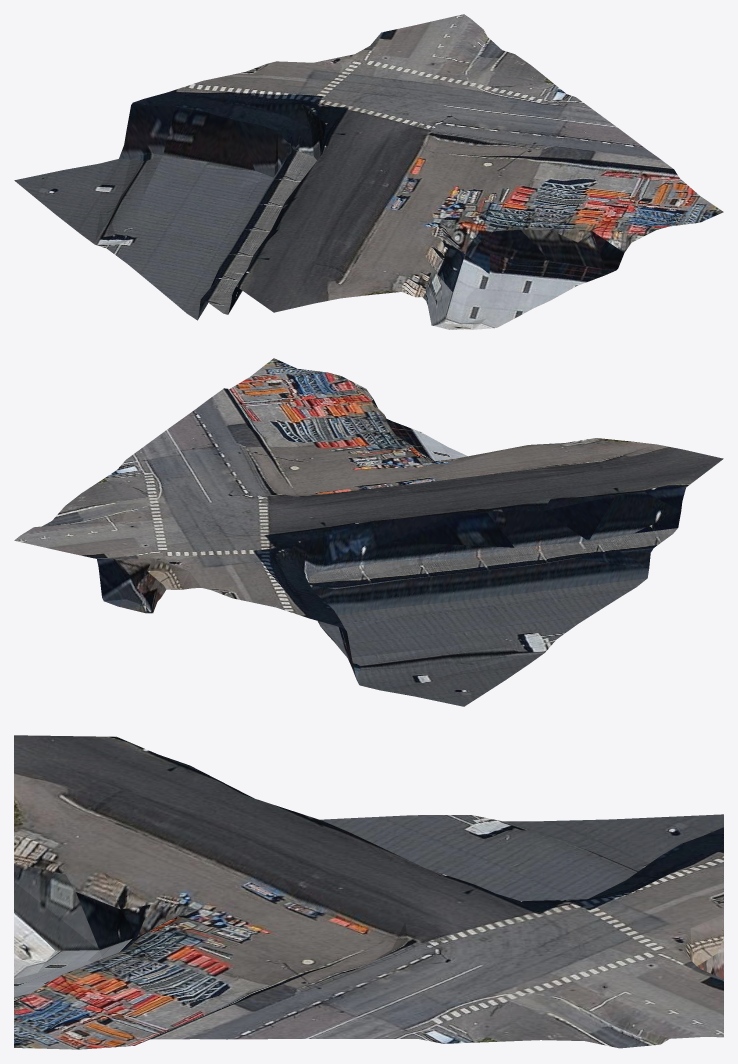
File: map_15_8184_13783.dae
The picture shows the model from 3 angles, top to bottom: view 1: azimuth 30°, elevation 25°; view 2: azimuth 150°, elevation 25°; view 3: azimuth 270°, elevation 25°; orthographic projection. The views are drawn at different scales.
Visible parts, largest first — view 1: Ter0; view 2: Ter0; view 3: Ter0.
Part boxes in pixels (box(x1,y1,x2,y2)): Ter0: box(14, 14, 723, 329); Ter0: box(14, 358, 723, 706); Ter0: box(14, 735, 723, 1049).
Size of the model in its own units: 63.88 by 63.88 by 9.59.
3 materials, 3 textured.
